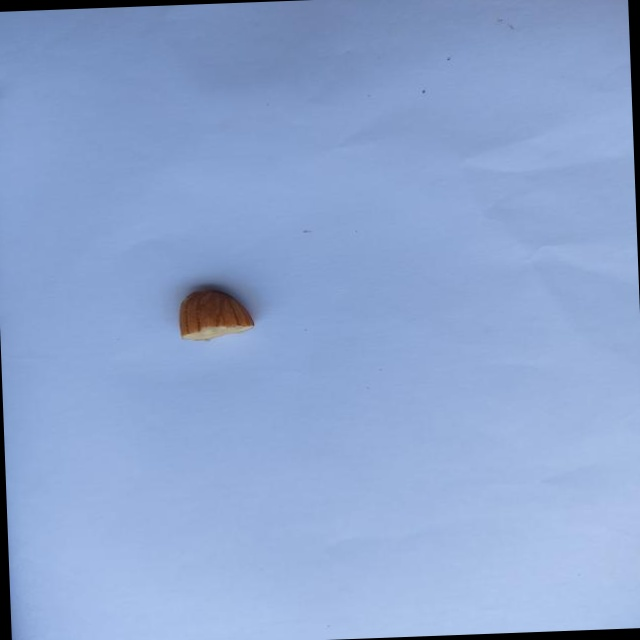grade4: (171, 280, 264, 346)
